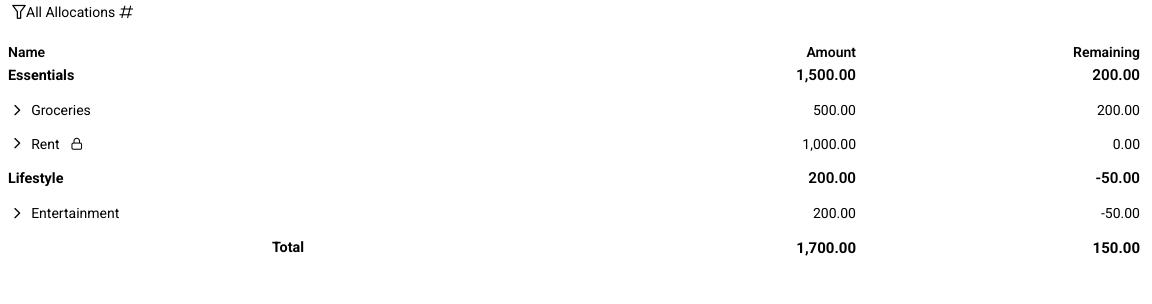
Test case: BudgetAllocationListMobile › view mode — chevron expand/collapse › collapses row when chevron is clicked again
The image size is (1152, 304).
Click the icon with class "mobile-chevron" next to "Groceries".
click(17, 110)  # box [8,102,26,119]
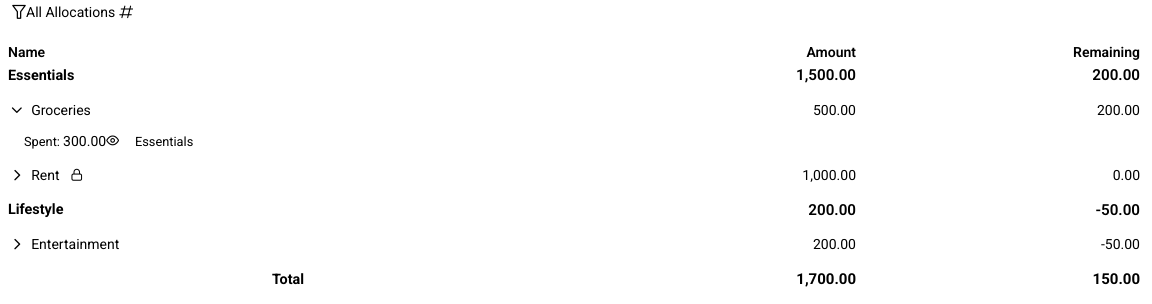
Click the icon with class "mobile-chevron" next to "Groceries".
click(17, 110)  # box [8,102,26,119]
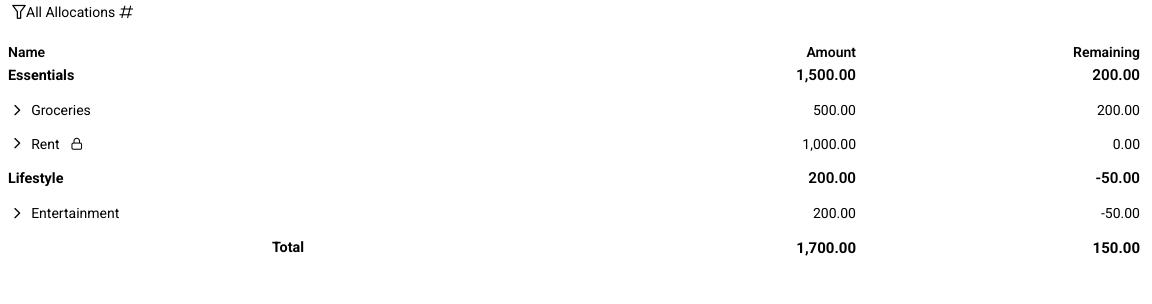
Now no rows with class "mobile-detail-row" are shown
